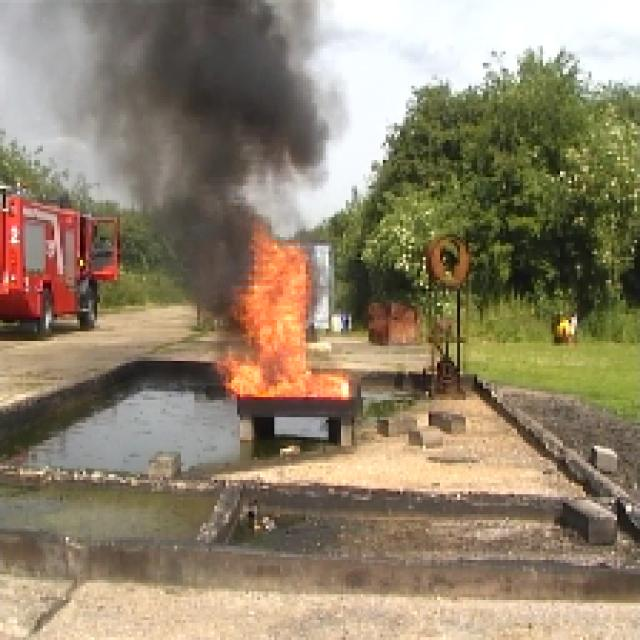fire: (244, 247, 308, 390)
smoke: (158, 14, 242, 272)
